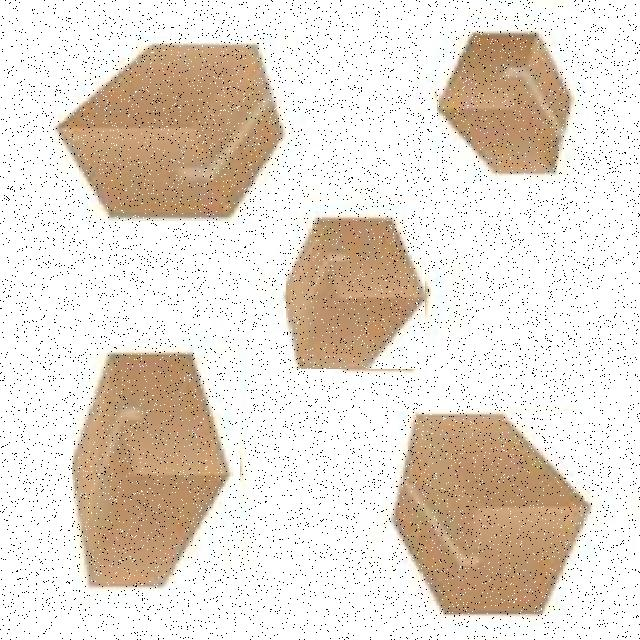normal: (45, 39, 283, 228), (383, 411, 599, 615), (72, 344, 240, 594), (286, 211, 425, 369), (437, 22, 575, 180)
